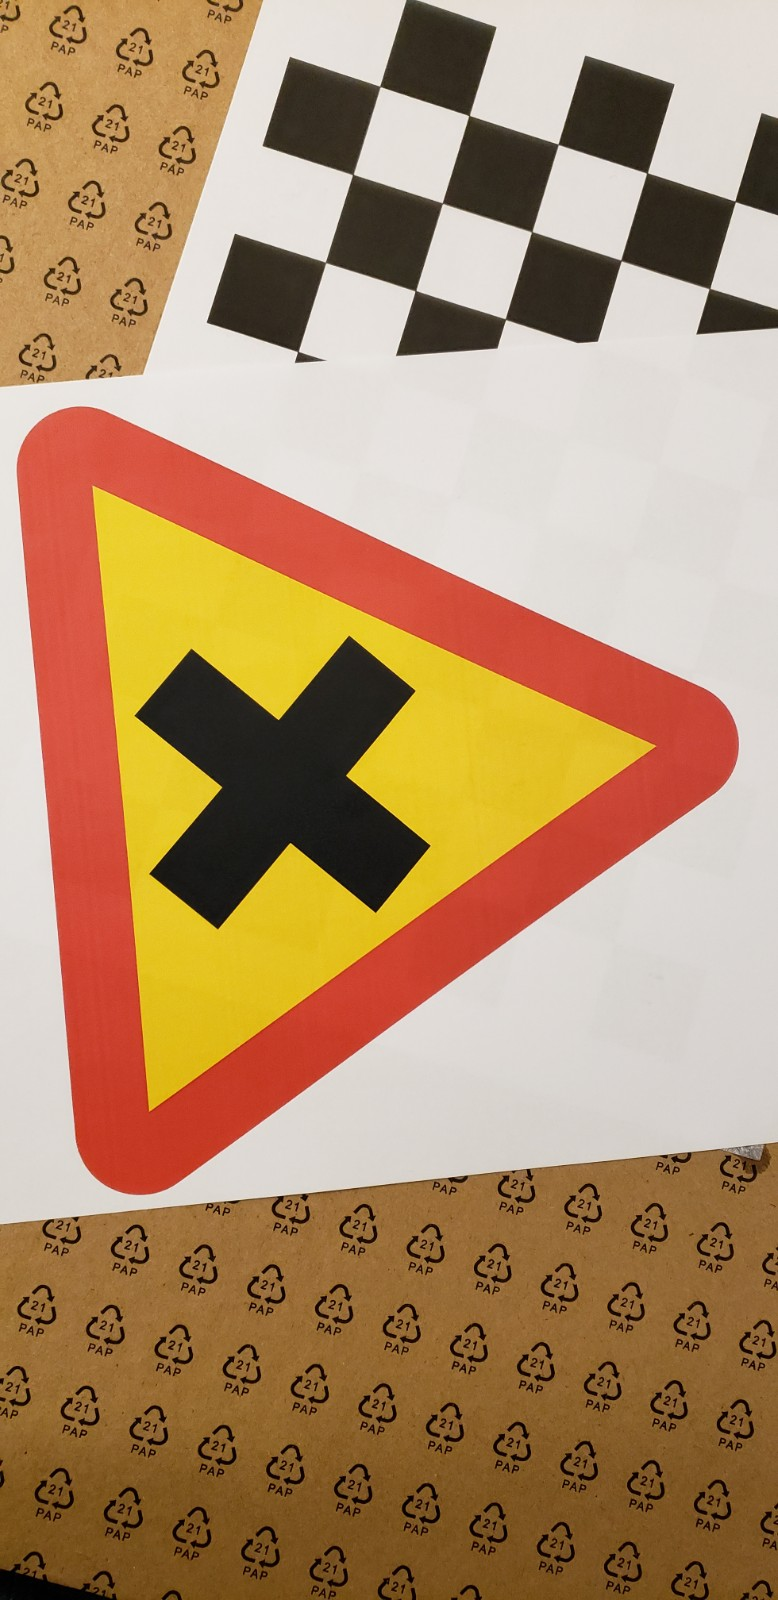junction: (6, 402, 749, 1223)
